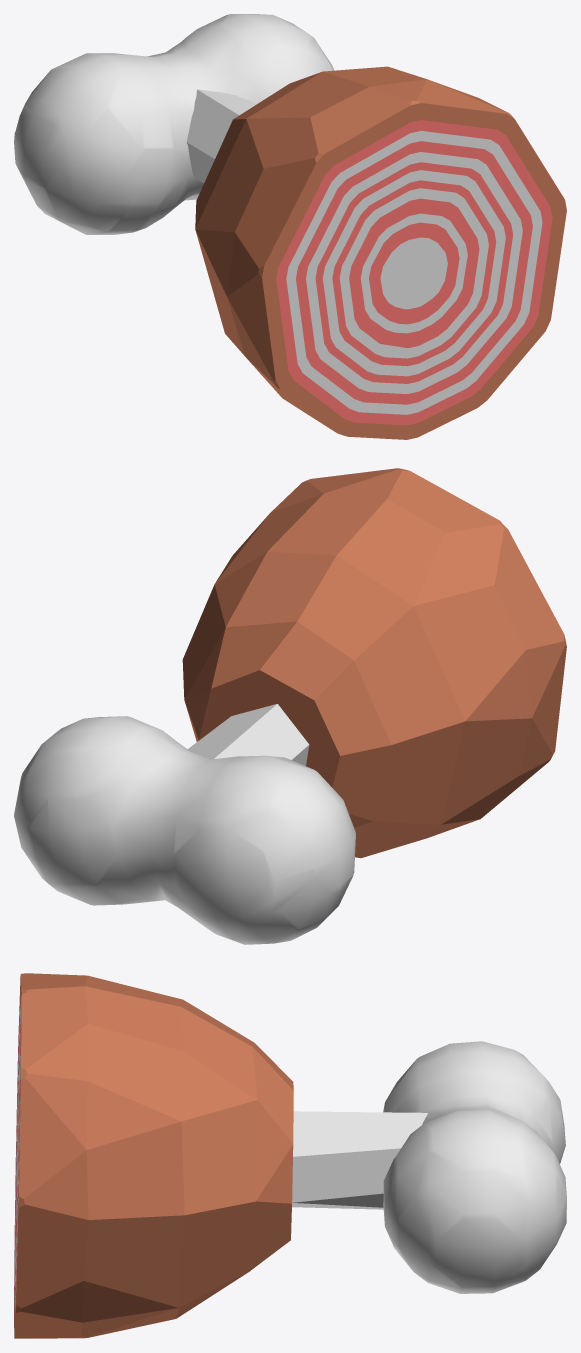
File: ham.fbx
The picture shows the model from 3 angles, top to bottom: view 1: azimuth 30°, elevation 25°; view 2: azimuth 150°, elevation 25°; view 3: azimuth 270°, elevation 25°; orthographic projection. The views are drawn at different scales.
Parts seen in each view (by area): view 1: Mball.002; view 2: Mball.002; view 3: Mball.002.
Part boxes in pixels (left/top/right/bottom): Mball.002: left=14, top=14, right=566, bottom=439; Mball.002: left=14, top=468, right=566, bottom=944; Mball.002: left=14, top=973, right=566, bottom=1338.
Size of the model in its own units: 489 by 491 by 736.
